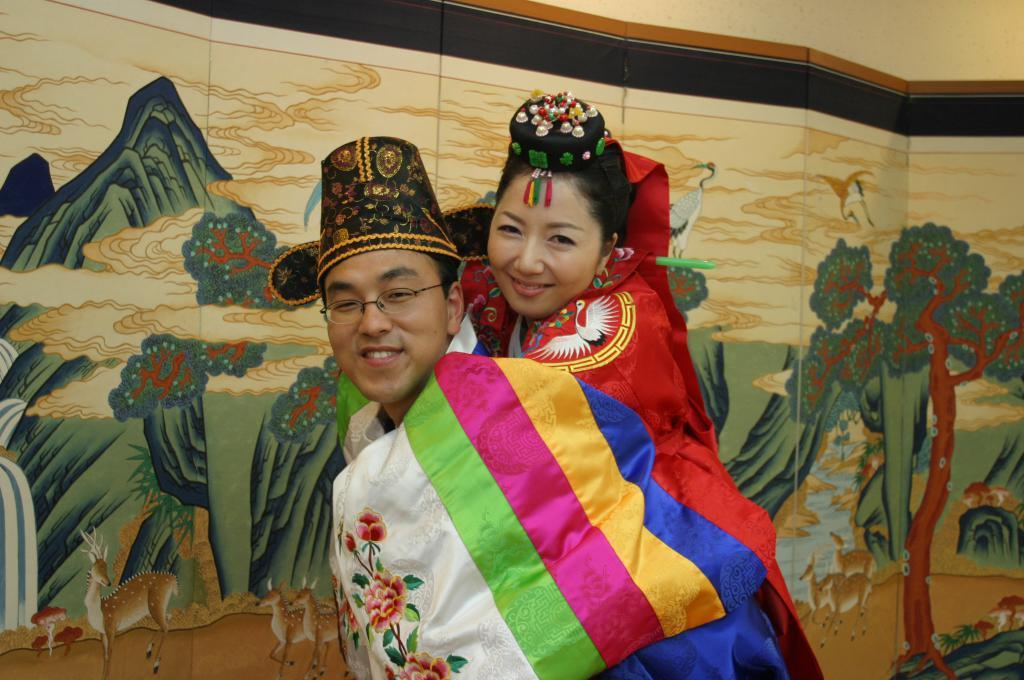Hat: (274, 130, 534, 304)
